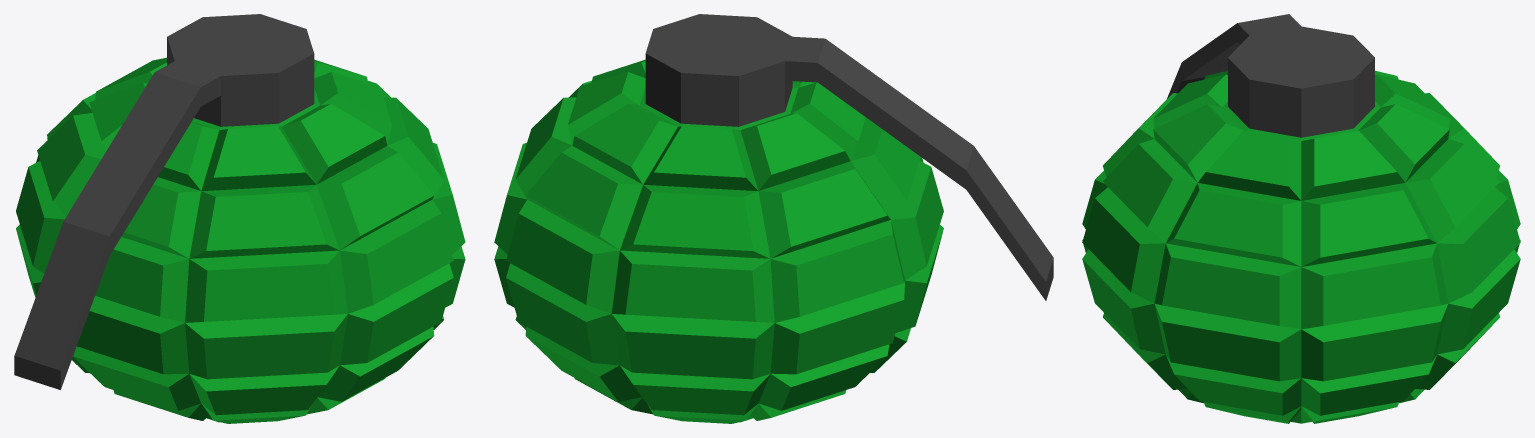
The model's file is bomb.glb.
The picture shows the model from 3 angles, left to right: view 1: azimuth 30°, elevation 25°; view 2: azimuth 150°, elevation 25°; view 3: azimuth 270°, elevation 25°; orthographic projection. The views are drawn at different scales.
Parts seen in each view (by area): view 1: Base, Handle; view 2: Base, Handle; view 3: Base, Handle.
Boxes of the visible parts, bbox=[...] form: Base: bbox=[16, 57, 465, 423]; Handle: bbox=[14, 14, 314, 389]; Base: bbox=[494, 59, 943, 423]; Handle: bbox=[645, 14, 1053, 300]; Base: bbox=[1082, 70, 1520, 423]; Handle: bbox=[1167, 14, 1374, 137].
Size of the model in its own units: 1.27 by 0.9121 by 1.06.
